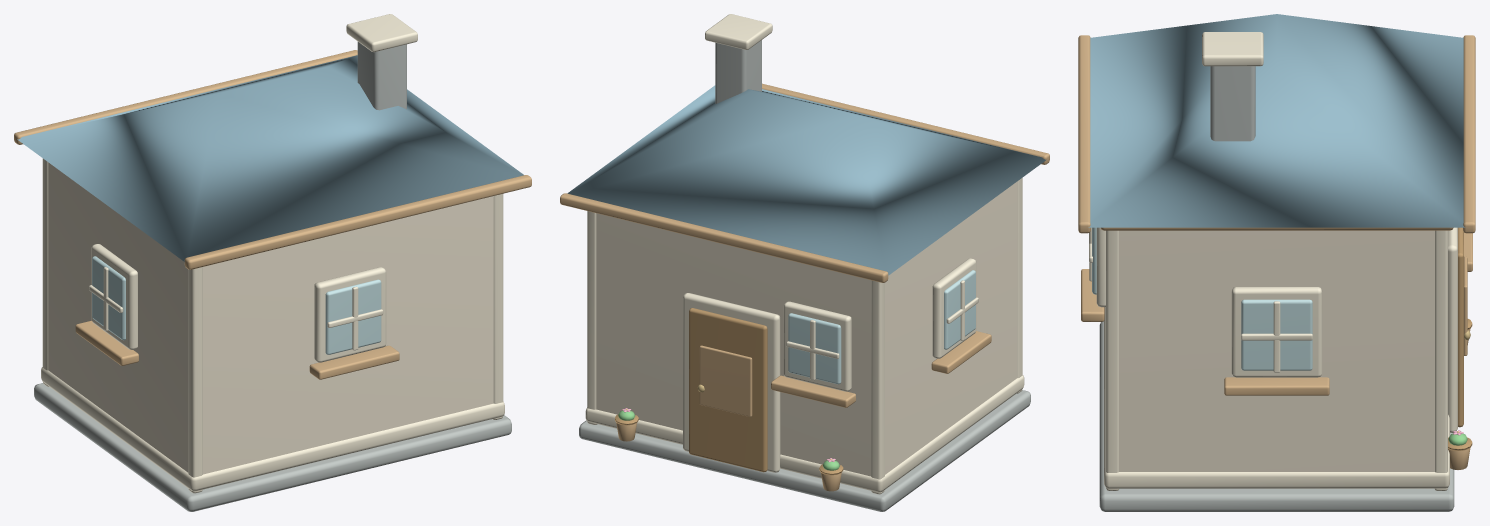
File: admin.glb
The picture shows the model from 3 angles, left to right: view 1: azimuth 30°, elevation 25°; view 2: azimuth 150°, elevation 25°; view 3: azimuth 270°, elevation 25°; orthographic projection. The views are drawn at different scales.
Bounding box in the file's own units: 3.62 × 3.78 × 3.16.
